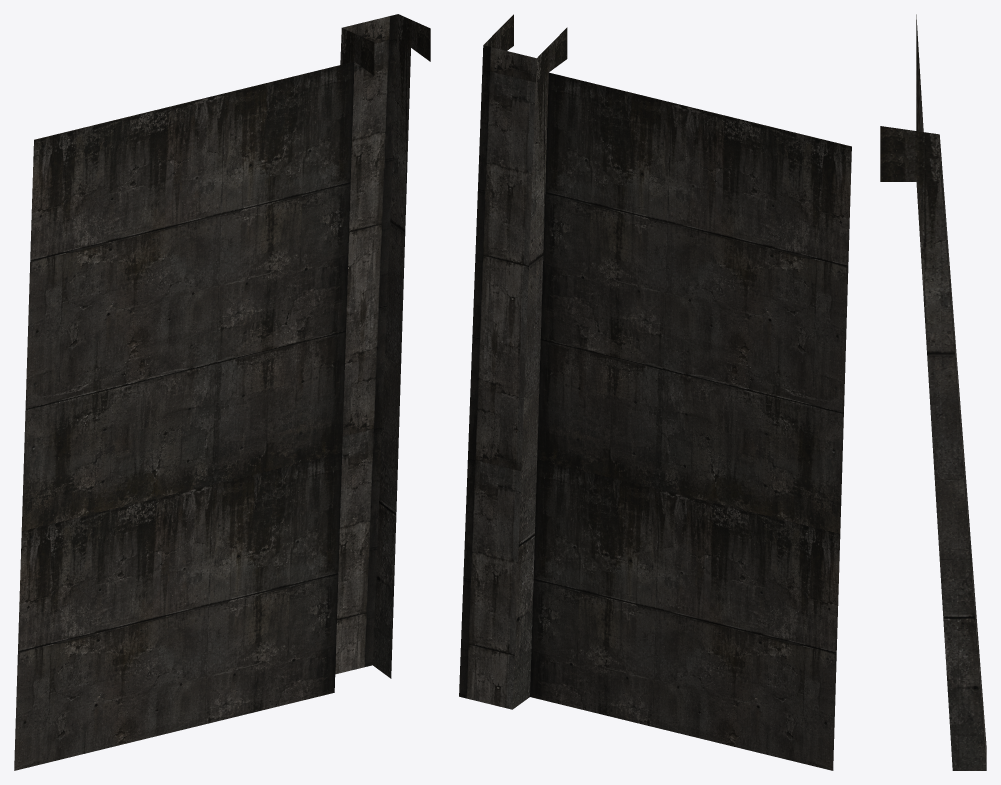
Rendered from BigWall.fbx.
The picture shows the model from 3 angles, left to right: view 1: azimuth 30°, elevation 25°; view 2: azimuth 150°, elevation 25°; view 3: azimuth 270°, elevation 25°; orthographic projection. The views are drawn at different scales.
Parts seen in each view (by area): view 1: BigWall; view 2: BigWall; view 3: BigWall.
Boxes of the visible parts, box(x1,y1,x2,y2) form: BigWall: box(14, 14, 430, 770); BigWall: box(459, 14, 851, 770); BigWall: box(880, 14, 986, 770).
Bounding box in the file's own units: 11 × 18.94 × 2.94.
Materials: 1 (1 with a texture image).
